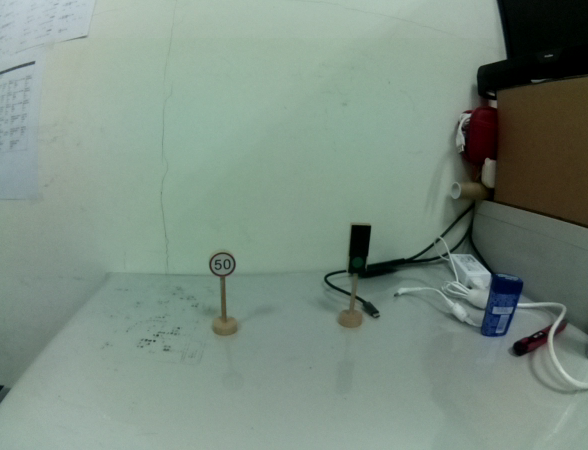Green: (346, 221, 373, 277)
Speed50: (207, 249, 237, 278)
